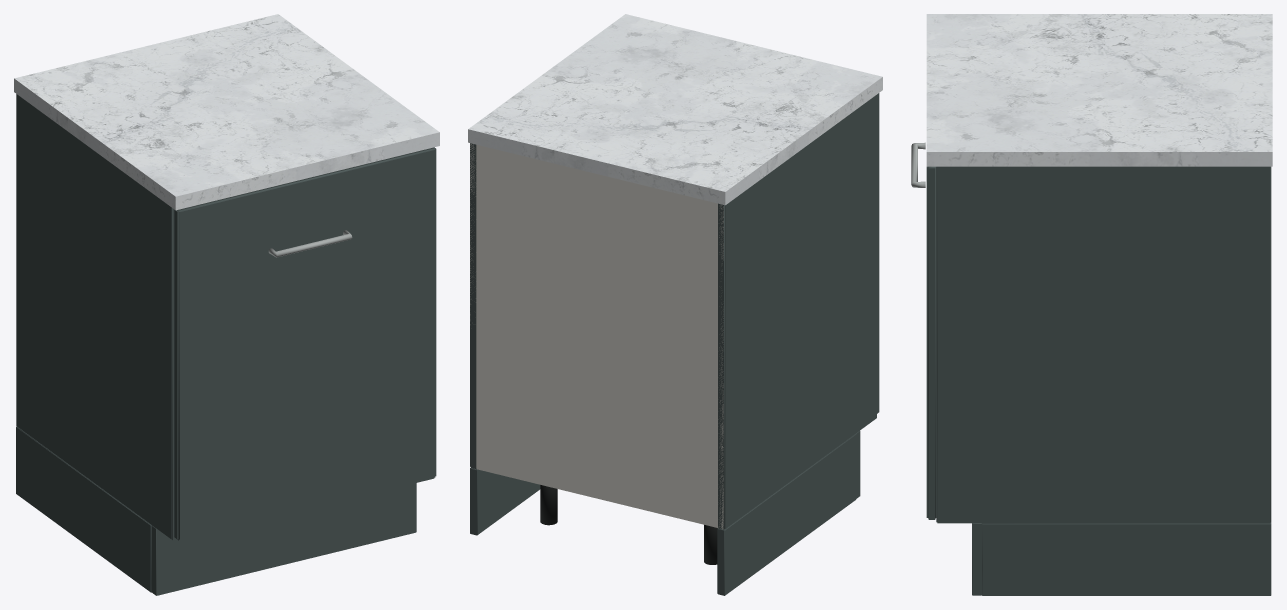
File: modern.kitchen_base.gltf
The picture shows the model from 3 angles, left to right: view 1: azimuth 30°, elevation 25°; view 2: azimuth 150°, elevation 25°; view 3: azimuth 270°, elevation 25°; orthographic projection. The views are drawn at different scales.
Visible parts, largest first — view 1: modern.kitchen_base.back; view 2: modern.kitchen_base.back; view 3: modern.kitchen_base.back.
Boxes of the visible parts, x1,y1,x2,y2 form: modern.kitchen_base.back: (14, 14, 439, 595); modern.kitchen_base.back: (468, 14, 882, 595); modern.kitchen_base.back: (911, 14, 1272, 595).
Bounding box in the file's own units: 0.604 × 0.91 × 0.668.
5 materials, 1 textured.
